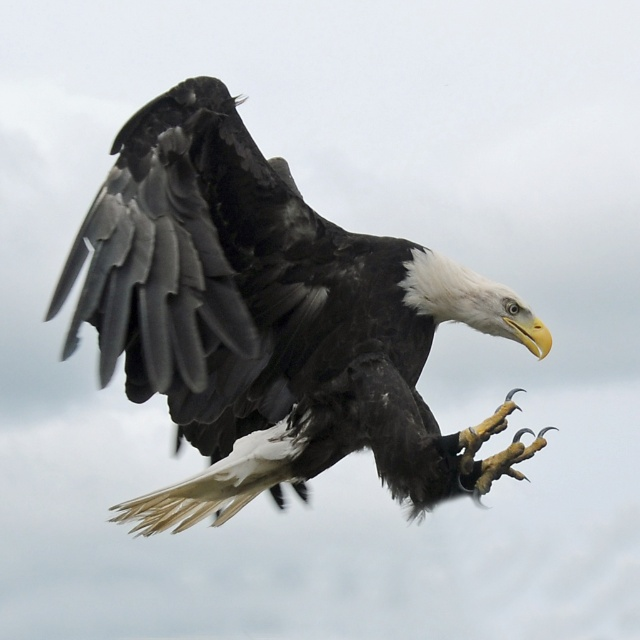Eagle: (41, 75, 559, 540)
